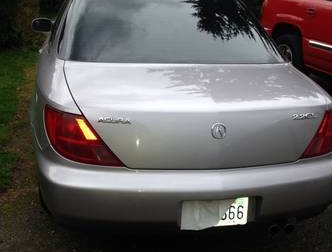acura: (26, 1, 331, 238)
